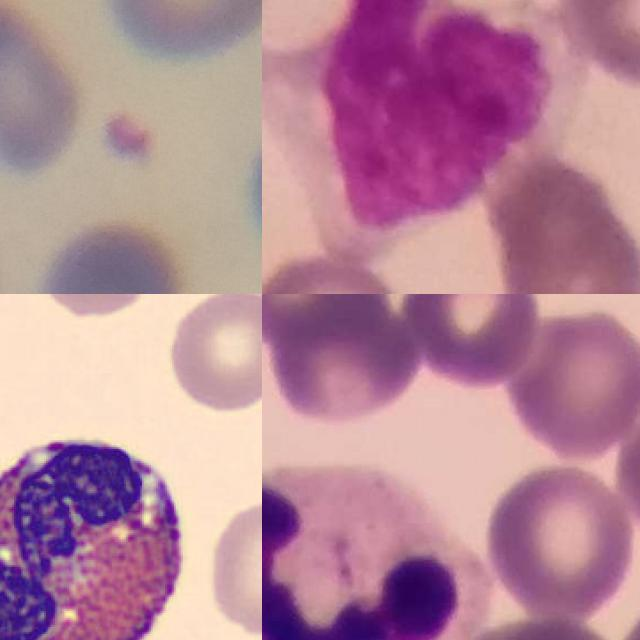Eosinophil: (0, 417, 202, 640)
Monocyte: (262, 0, 551, 226)
Neutrophil: (262, 465, 490, 640)
RBC: (161, 294, 262, 415), (202, 494, 262, 639), (26, 294, 168, 320)
